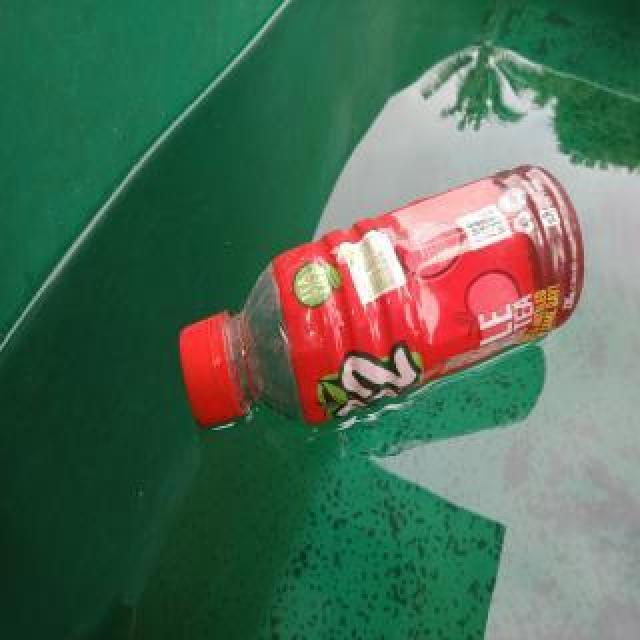bottle: (179, 163, 583, 429)
